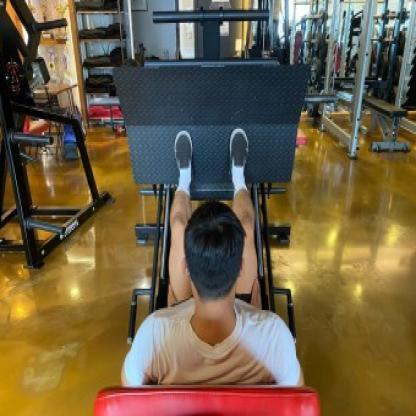leg press: (78, 44, 333, 416)
